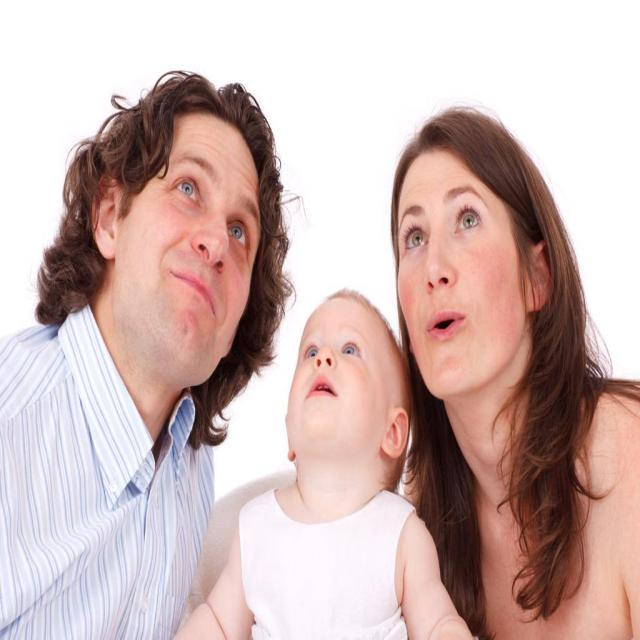Face: (101, 92, 275, 384), (391, 131, 542, 401), (286, 285, 388, 459)
